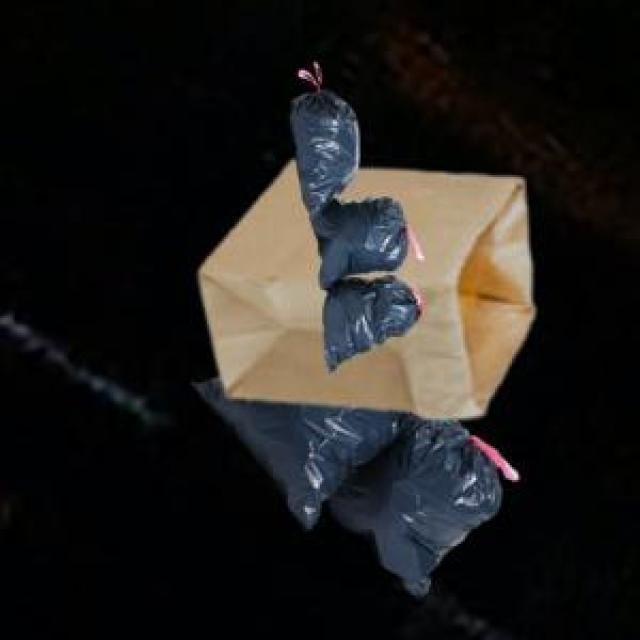miscellaneous trash: (188, 373, 514, 595), (286, 85, 418, 369)
paper: (196, 156, 529, 414)
